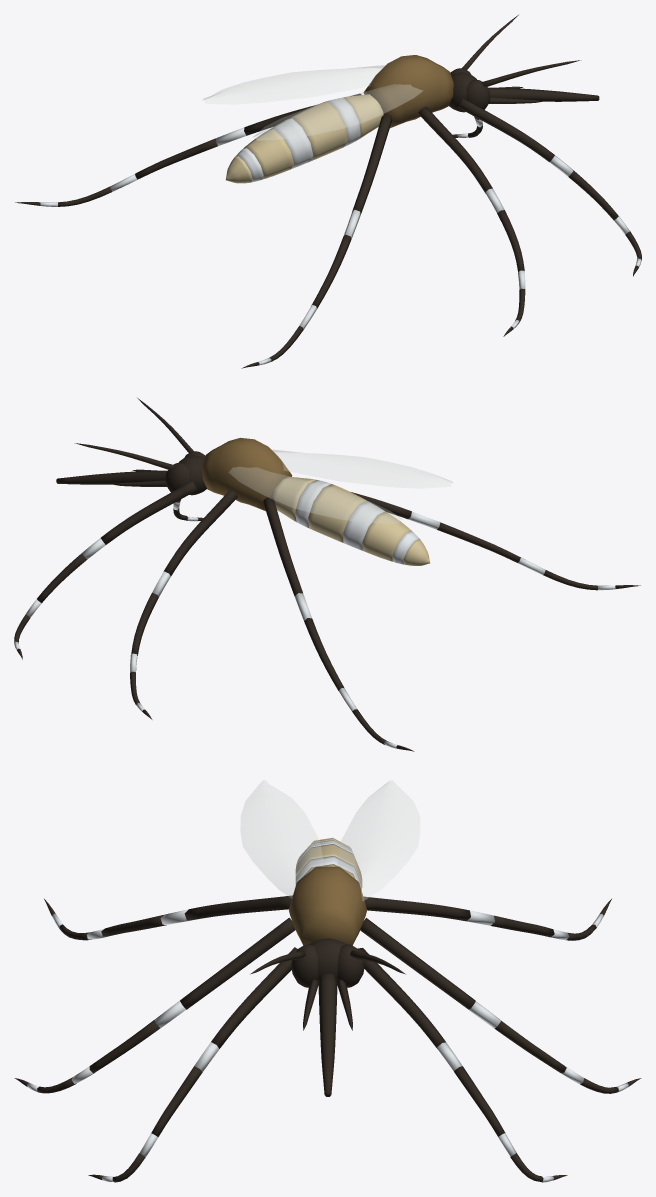
File: m3_mosquito.glb
3 renders of one model, top to bottom at view 1: azimuth 30°, elevation 25°; view 2: azimuth 150°, elevation 25°; view 3: azimuth 270°, elevation 25°, orthographic. The views are drawn at different scales.
Visible parts, largest first — view 1: m3_mosquito_ir_chitin_dark, m3_mosquito_ir_membrane, m3_mosquito_ir_chitin_pale, m3_mosquito_ir_white, m3_mosquito_ir_chitin; view 2: m3_mosquito_ir_chitin_dark, m3_mosquito_ir_membrane, m3_mosquito_ir_chitin_pale, m3_mosquito_ir_white, m3_mosquito_ir_chitin; view 3: m3_mosquito_ir_chitin_dark, m3_mosquito_ir_membrane, m3_mosquito_ir_chitin, m3_mosquito_ir_white, m3_mosquito_ir_chitin_pale.
Part boxes in pixels (x1=…): m3_mosquito_ir_chitin_dark: x1=15, y1=15, x2=641, y2=368; m3_mosquito_ir_membrane: x1=202, y1=65, x2=422, y2=140; m3_mosquito_ir_chitin_pale: x1=225, y1=94, x2=383, y2=183; m3_mosquito_ir_white: x1=40, y1=97, x2=641, y2=365; m3_mosquito_ir_chitin: x1=363, y1=55, x2=453, y2=128; m3_mosquito_ir_chitin_dark: x1=14, y1=398, x2=640, y2=751; m3_mosquito_ir_membrane: x1=229, y1=449, x2=452, y2=523; m3_mosquito_ir_chitin_pale: x1=272, y1=476, x2=429, y2=565; m3_mosquito_ir_white: x1=14, y1=480, x2=615, y2=748; m3_mosquito_ir_chitin: x1=202, y1=437, x2=292, y2=511; m3_mosquito_ir_chitin_dark: x1=14, y1=895, x2=641, y2=1182; m3_mosquito_ir_membrane: x1=240, y1=780, x2=419, y2=900; m3_mosquito_ir_chitin: x1=289, y1=866, x2=367, y2=945; m3_mosquito_ir_white: x1=27, y1=840, x2=628, y2=1182; m3_mosquito_ir_chitin_pale: x1=295, y1=837, x2=362, y2=884.
Size of the model in its own units: 0.0278 by 0.0101 by 0.0256.
